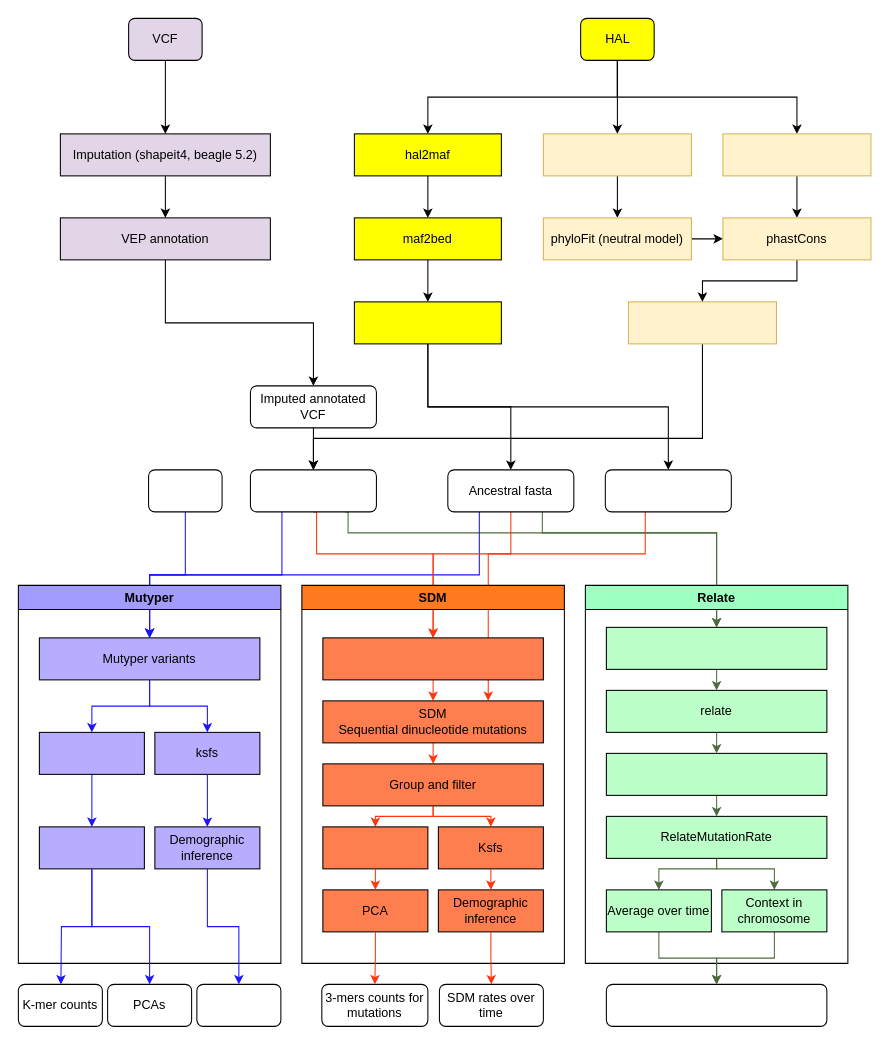
Image size: 889x1045. Some labels were removed from this diagram. The shapes that lost their labels are listed below. From the top down, each one's centre as x and y in pixels, then its label:
the point at 616,154: Extract 4-fold degenerate codons
the point at 796,154: ha2maf
the point at 427,322: bed2fasta
the point at 701,322: Conserved regions (bed)
the point at 185,490: K-mer sizes
the point at 312,490: Imputed annotated non-conserved VCF
the point at 667,490: Reference fasta
the point at 432,658: Annotate Ancestral field in VCF (AA)
the point at 716,647: relate_prepare
the point at 91,752: Group counts
the point at 716,773: Relate Ne (rescale by population history)
the point at 91,847: PCA of spectra
the point at 375,847: Count
the point at 238,1004: Mutation rates over time
the point at 716,1004: rates, avg_rates and rate over time
